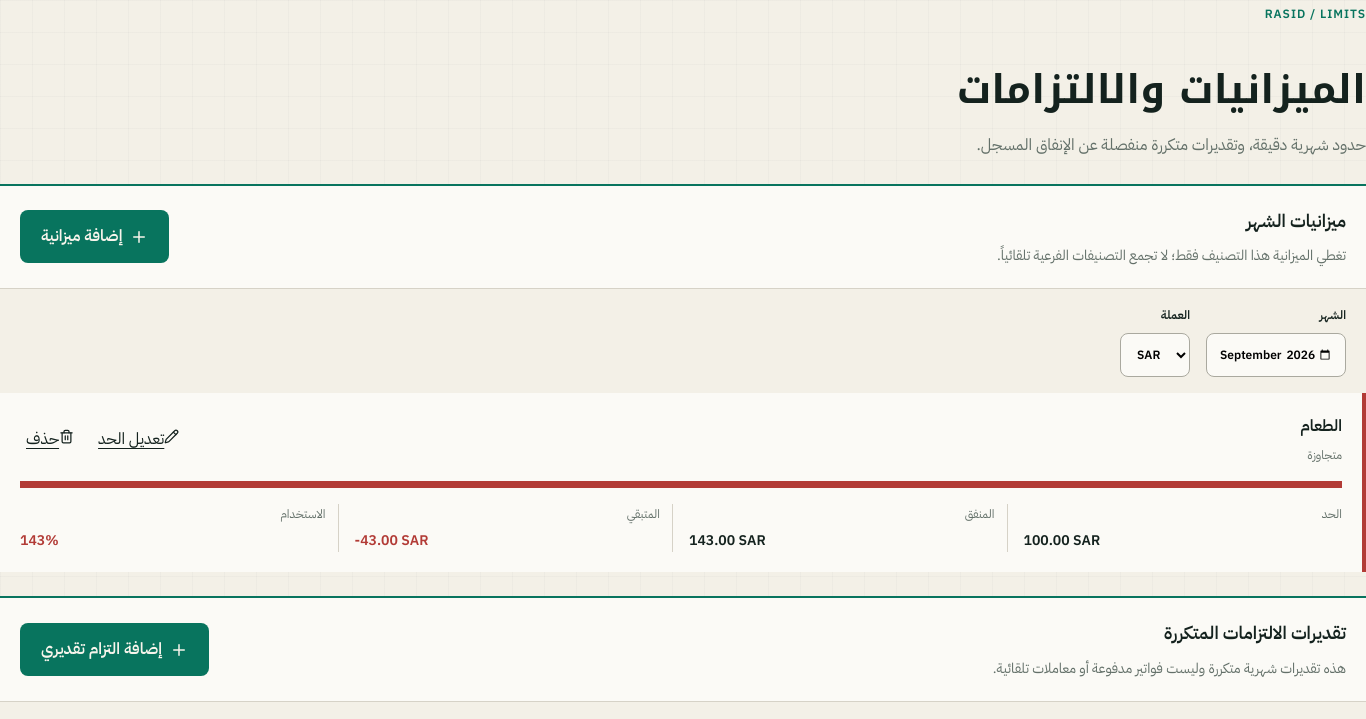
BudgetsPage › associates validation errors with the invalid budget controls
Click the button "إضافة ميزانية".
click(95, 237)  # box top-left (20, 210), bottom-right (169, 263)
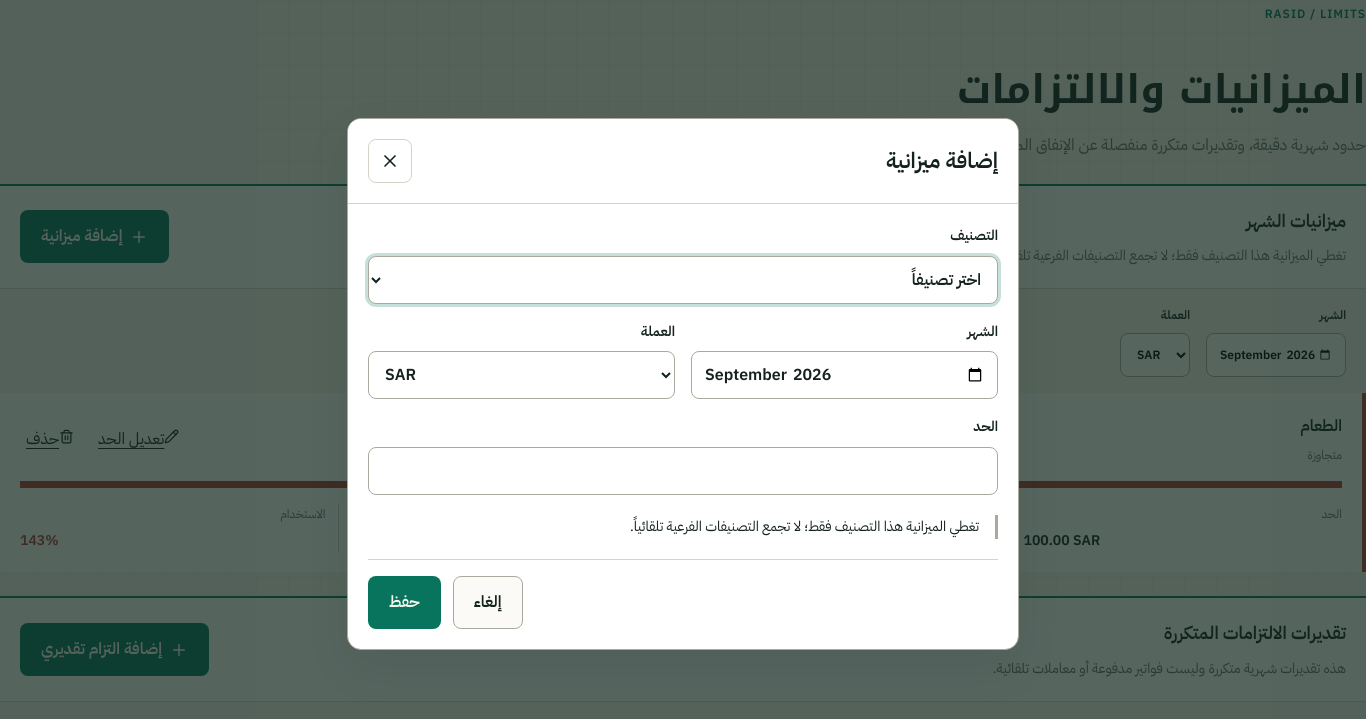
Click the button "حفظ".
click(404, 603)  # box top-left (368, 576), bottom-right (441, 629)
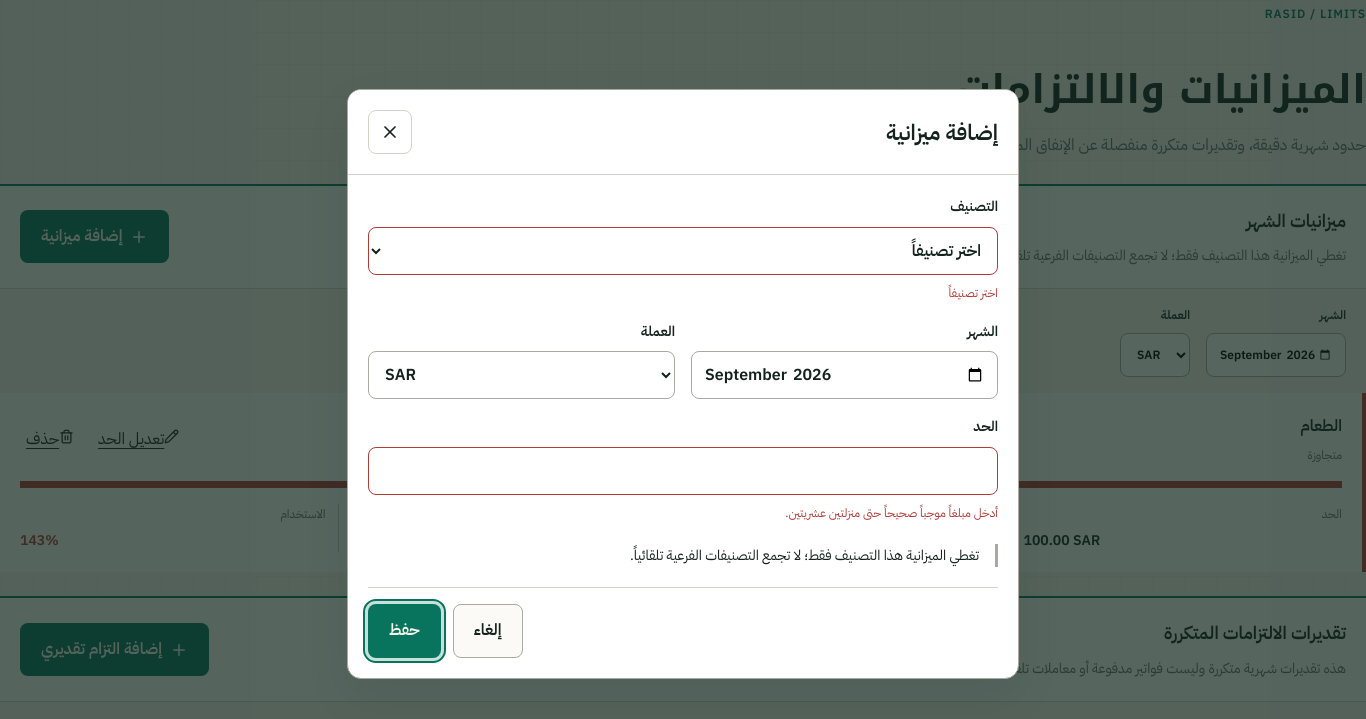
Check: the text "اختر تصنيفاً" is shown, box top-left (949, 284), bottom-right (998, 302)
